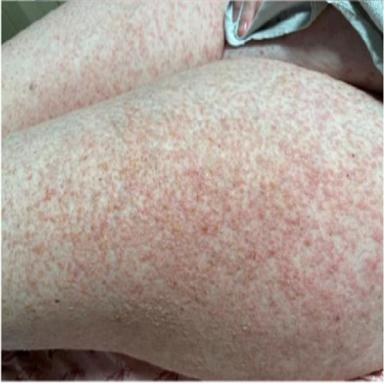Darier_s-Disease: (2, 2, 383, 379)
